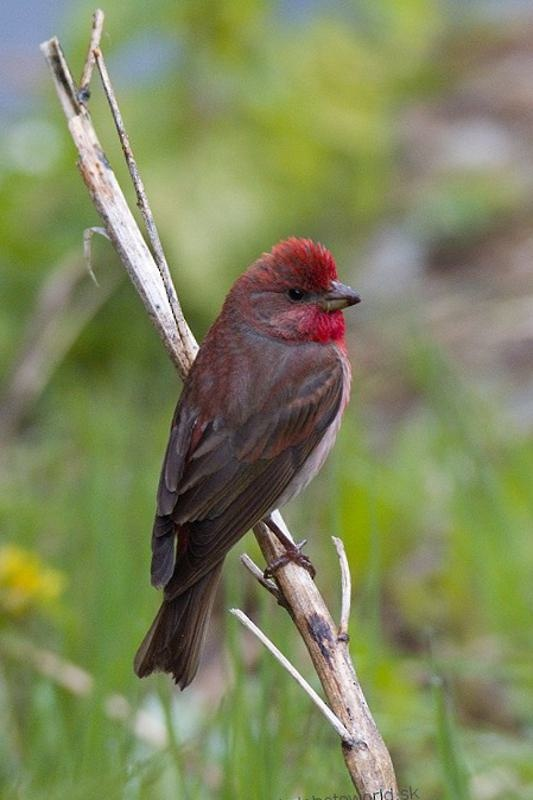rosefinch: (146, 234, 372, 630)
